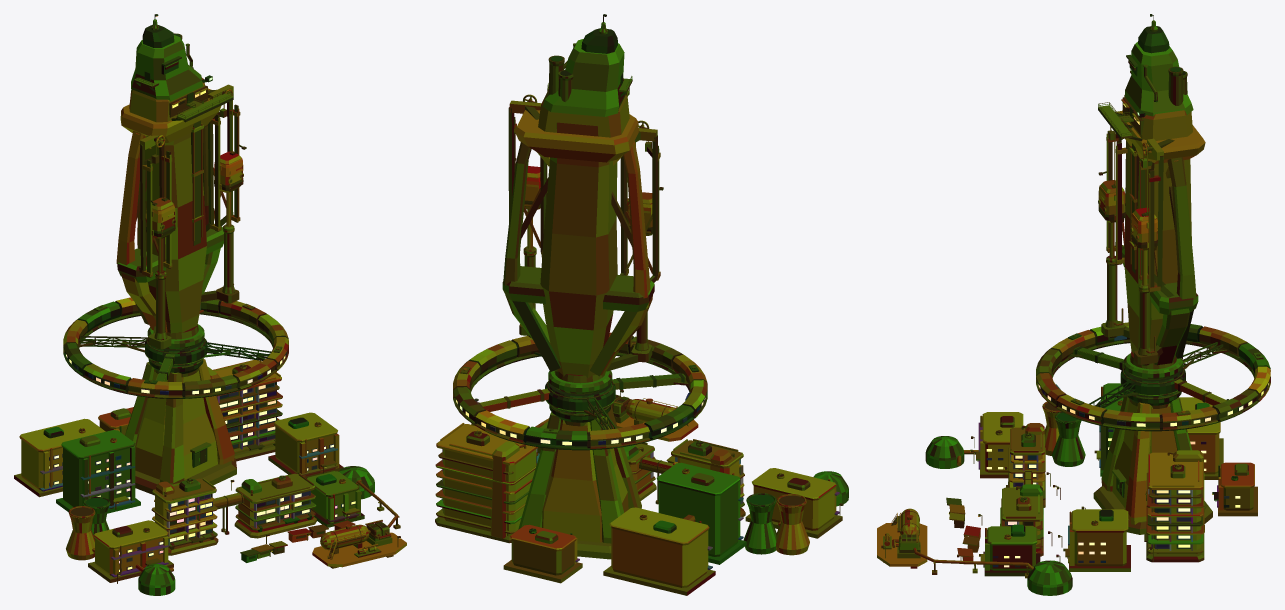
File: habitat.glb
The picture shows the model from 3 angles, left to right: view 1: azimuth 30°, elevation 25°; view 2: azimuth 150°, elevation 25°; view 3: azimuth 270°, elevation 25°; orthographic projection. The views are drawn at different scales.
Visible parts, largest first — view 1: habitat_geo, hab_ring_geo, tuner_b_mass_geo, tuner_a_mass_geo; view 2: habitat_geo, hab_ring_geo, tuner_b_mass_geo; view 3: habitat_geo, hab_ring_geo, tuner_a_mass_geo, tuner_b_mass_geo.
Boxes of the visible parts, left/top/right/bottom form: habitat_geo: left=14, top=14, right=406, bottom=595; hab_ring_geo: left=63, top=297, right=288, bottom=398; tuner_b_mass_geo: left=214, top=151, right=243, bottom=226; tuner_a_mass_geo: left=146, top=197, right=175, bottom=272; habitat_geo: left=435, top=14, right=848, bottom=595; hab_ring_geo: left=453, top=332, right=707, bottom=450; tuner_b_mass_geo: left=524, top=166, right=540, bottom=248; habitat_geo: left=877, top=14, right=1257, bottom=595; hab_ring_geo: left=1036, top=322, right=1270, bottom=431; tuner_a_mass_geo: left=1098, top=180, right=1125, bottom=257; tuner_b_mass_geo: left=1130, top=207, right=1157, bottom=285.
Bounding box in the file's own units: 116 × 175 × 126.
